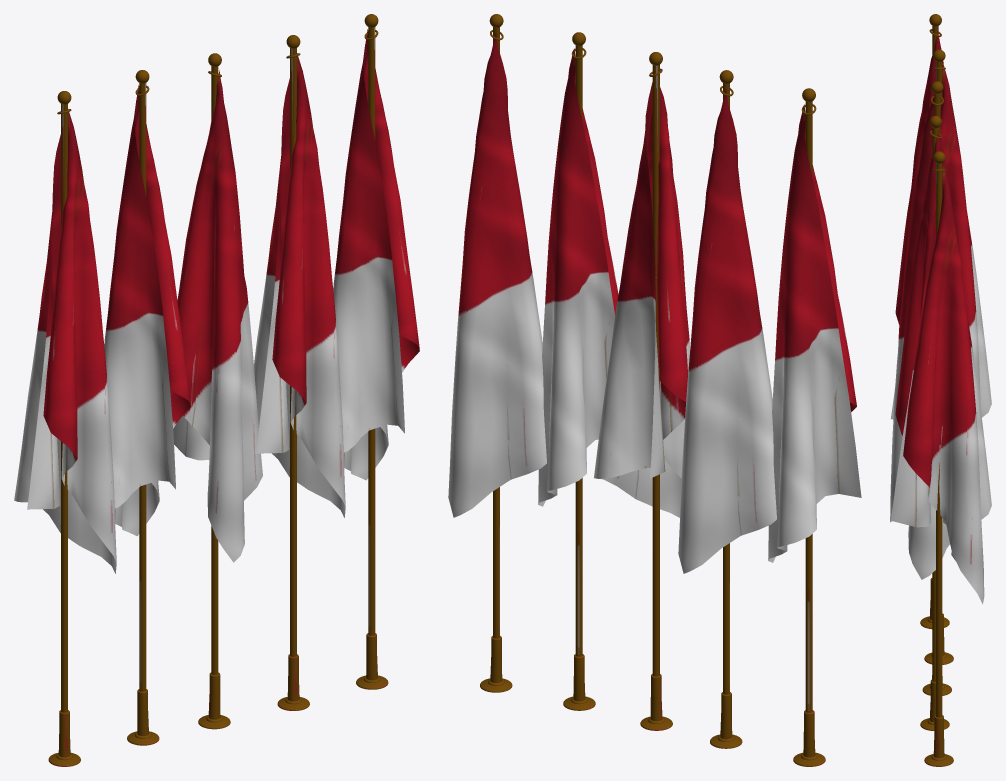
The model's file is flagblen55d.fbx.
3 renders of one model, left to right at view 1: azimuth 30°, elevation 25°; view 2: azimuth 150°, elevation 25°; view 3: azimuth 270°, elevation 25°, orthographic. The views are drawn at different scales.
Visible parts, largest first — view 1: flag_LP.001_Baked.003, flag_LP.001_Baked.001, flag_LP.001_Baked, flag_LP.001_Baked.002, flag_LP.001_Baked.004; view 2: flag_LP.001_Baked.002, flag_LP.001_Baked.004, flag_LP.001_Baked, flag_LP.001_Baked.003, flag_LP.001_Baked.001; view 3: flag_LP.001_Baked.002, flag_LP.001_Baked.001, flag_LP.001_Baked.004, flag_LP.001_Baked, flag_LP.001_Baked.003.
Part boxes in pixels (left/top/right/bottom): flag_LP.001_Baked.003: left=14, top=91, right=116, bottom=766; flag_LP.001_Baked.001: left=254, top=35, right=345, bottom=710; flag_LP.001_Baked: left=173, top=53, right=262, bottom=729; flag_LP.001_Baked.002: left=333, top=14, right=419, bottom=689; flag_LP.001_Baked.004: left=104, top=70, right=190, bottom=745; flag_LP.001_Baked.002: left=448, top=14, right=546, bottom=692; flag_LP.001_Baked.004: left=678, top=70, right=776, bottom=748; flag_LP.001_Baked: left=594, top=52, right=690, bottom=730; flag_LP.001_Baked.003: left=768, top=88, right=861, bottom=766; flag_LP.001_Baked.001: left=538, top=32, right=618, bottom=710; flag_LP.001_Baked.002: left=890, top=151, right=984, bottom=766; flag_LP.001_Baked.001: left=895, top=115, right=991, bottom=730; flag_LP.001_Baked.004: left=890, top=49, right=980, bottom=664; flag_LP.001_Baked: left=890, top=81, right=951, bottom=695; flag_LP.001_Baked.003: left=895, top=14, right=991, bottom=629.
Size of the model in its own units: 98.73 by 162 by 24.56.
1 material, 1 textured.
